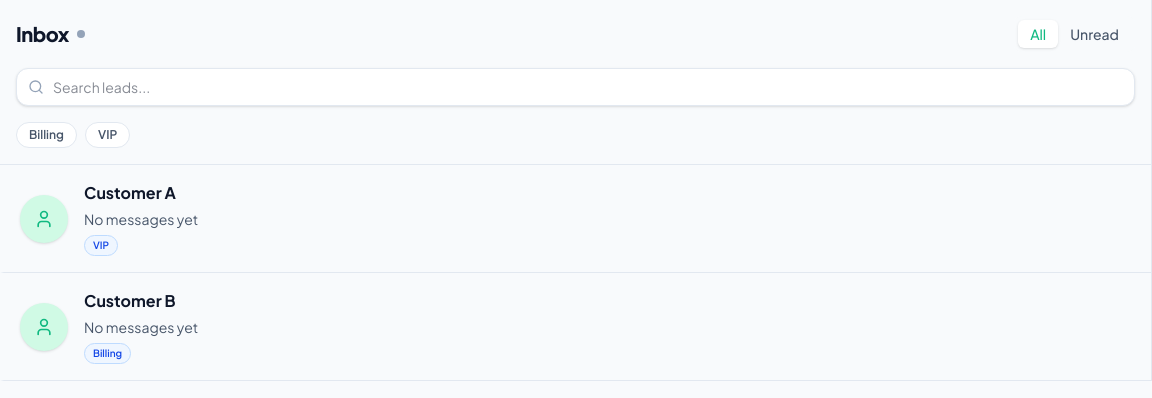
Scenario: ChatList Component - Tags › filters the conversation list down to conversations carrying the selected tag
Click the button "VIP".
click(108, 135)  # box [85,122,130,148]
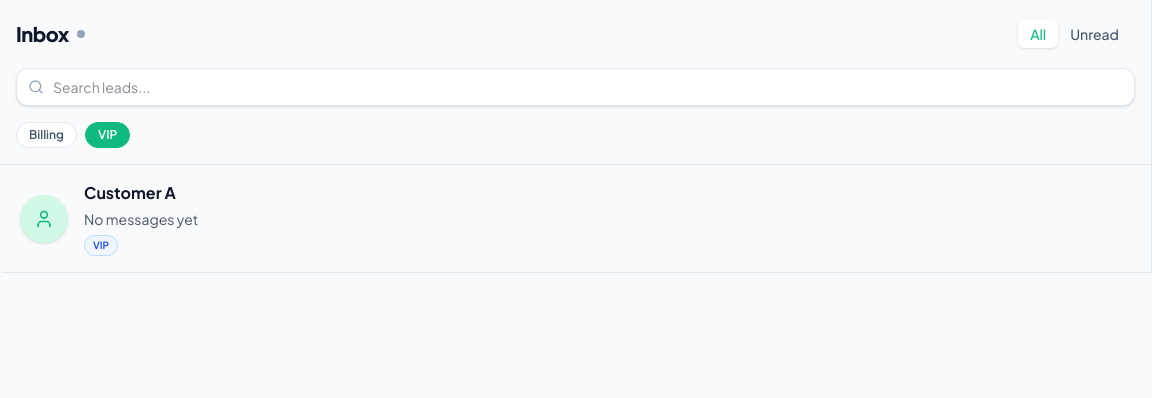
Expected: the text "Customer A" is shown, [84,181,176,205]
Now the button "Customer B" is gone
